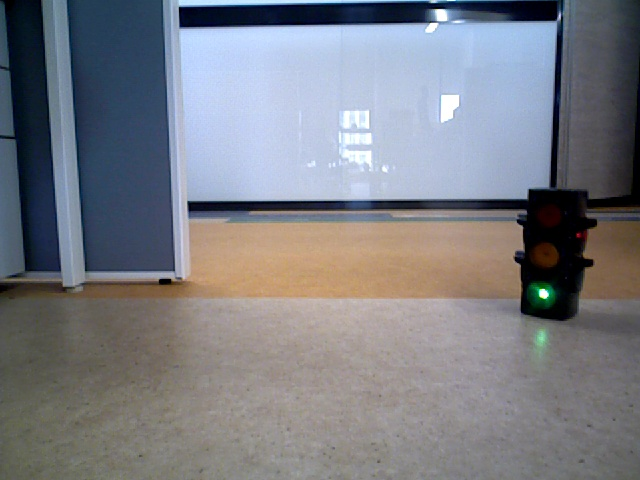green: (522, 190, 576, 311)
